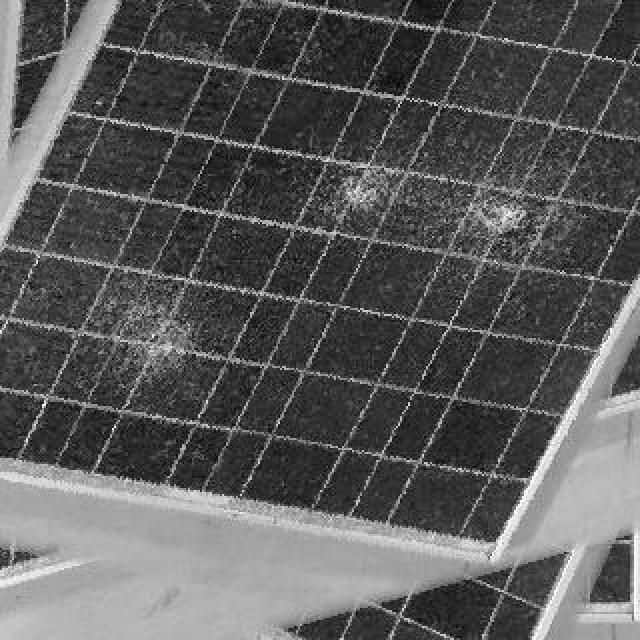Physical-damage: (458, 146, 582, 277), (90, 276, 212, 392), (306, 148, 410, 224)
